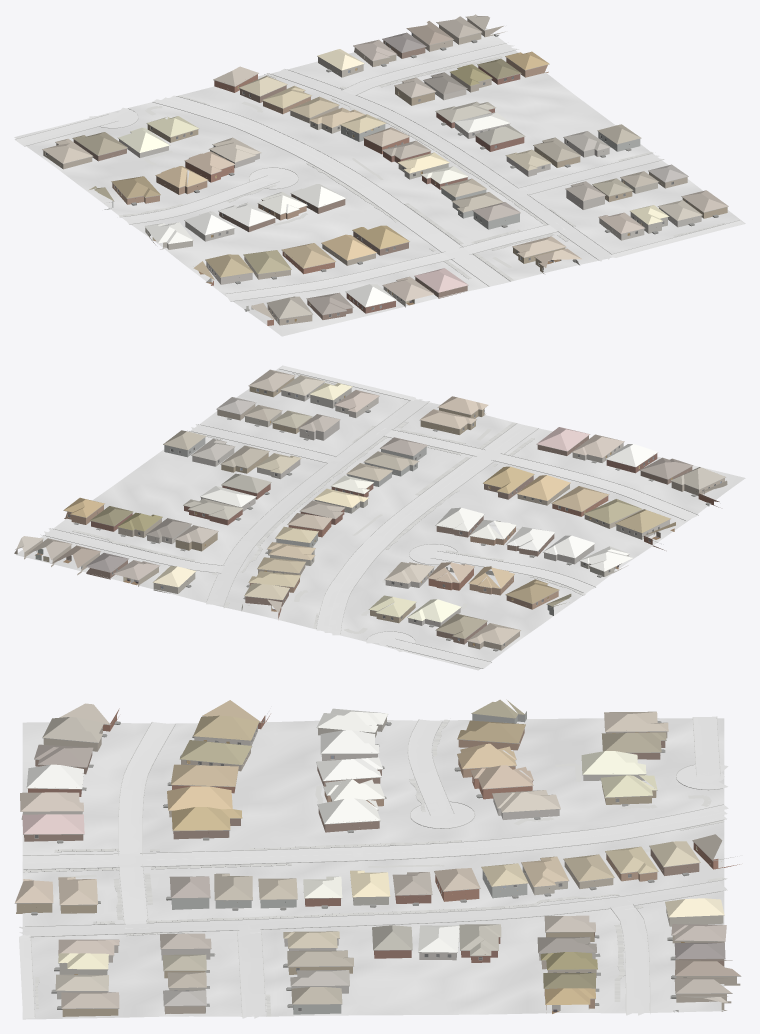
3 views of the same model, one above another, from view 1: azimuth 30°, elevation 25°; view 2: azimuth 150°, elevation 25°; view 3: azimuth 270°, elevation 25° (orthographic). The views are drawn at different scales.
Parts seen in each view (by area): view 1: ground, roof, concrete, wall, asphalt, wall_stucco, curb, detail, walk, wall_stone; view 2: ground, roof, concrete, wall, asphalt, wall_stucco, detail, curb, walk, wall_stone, glass; view 3: ground, roof, concrete, wall, asphalt, wall_stucco, walk, curb, detail, wall_stone, mark_w.
Part boxes in pixels (x1,y1,x2,y2): ground: (14,28,745,336); roof: (42,14,728,319); concrete: (15,44,743,301); wall: (43,40,727,325); asphalt: (153,95,509,286); wall_stucco: (104,18,667,325); curb: (15,43,739,301); detail: (42,17,728,322); walk: (119,56,724,281); wall_stone: (119,123,701,241); ground: (15,365,745,670); roof: (15,369,727,644); concrete: (44,366,698,668); wall: (64,377,719,650); asphalt: (316,423,538,635); wall_stucco: (14,388,724,615); detail: (24,376,725,651); curb: (43,368,698,668); walk: (72,373,585,633); wall_stone: (192,383,594,626); glass: (68,390,715,645); ground: (22,718,724,1019); roof: (15,699,740,1008); concrete: (19,716,728,1018); wall: (16,708,739,1016); asphalt: (22,805,728,869); wall_stucco: (21,711,740,1014); walk: (23,719,726,1016); curb: (23,716,726,1017); detail: (14,713,741,1012); wall_stone: (57,752,644,999); mark_w: (23,805,722,933).
Bounding box in the file's own units: 267 × 12.12 × 261.
